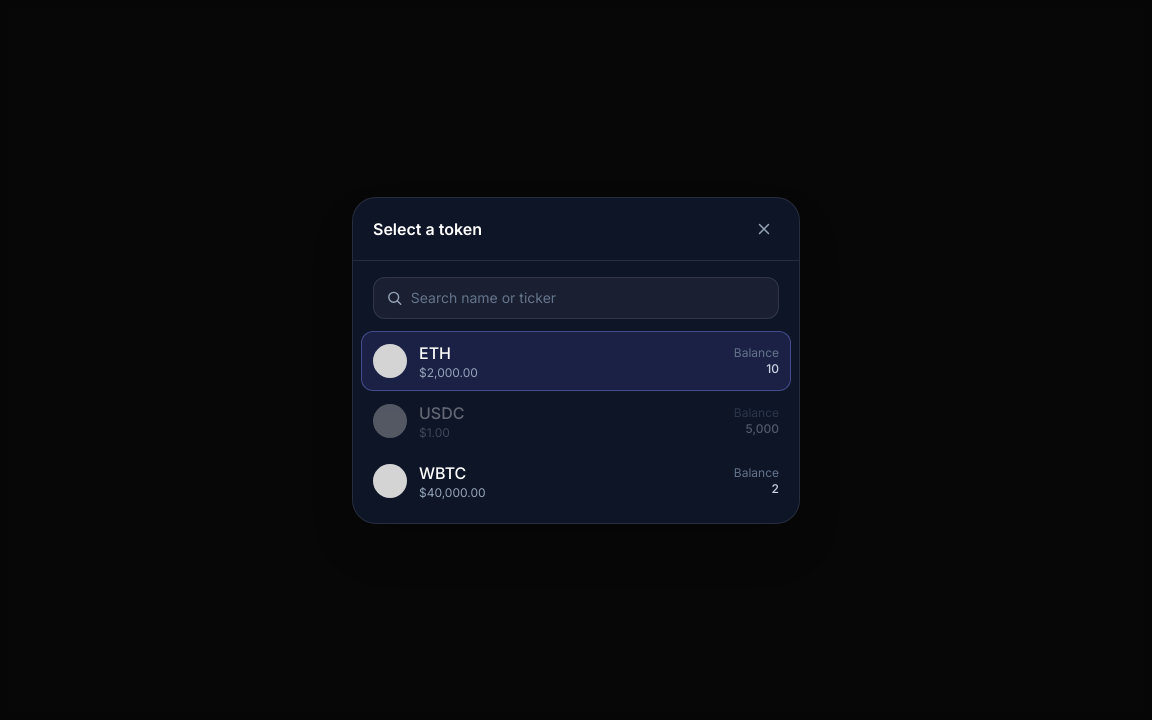
Test case: TokenSelectModal › filters the list by search query
The image size is (1152, 720).
Type "wbtc" into the field with placeholder "Search name or ticker". click: (588, 298)
box: x1=411 y1=288 x2=766 y2=308
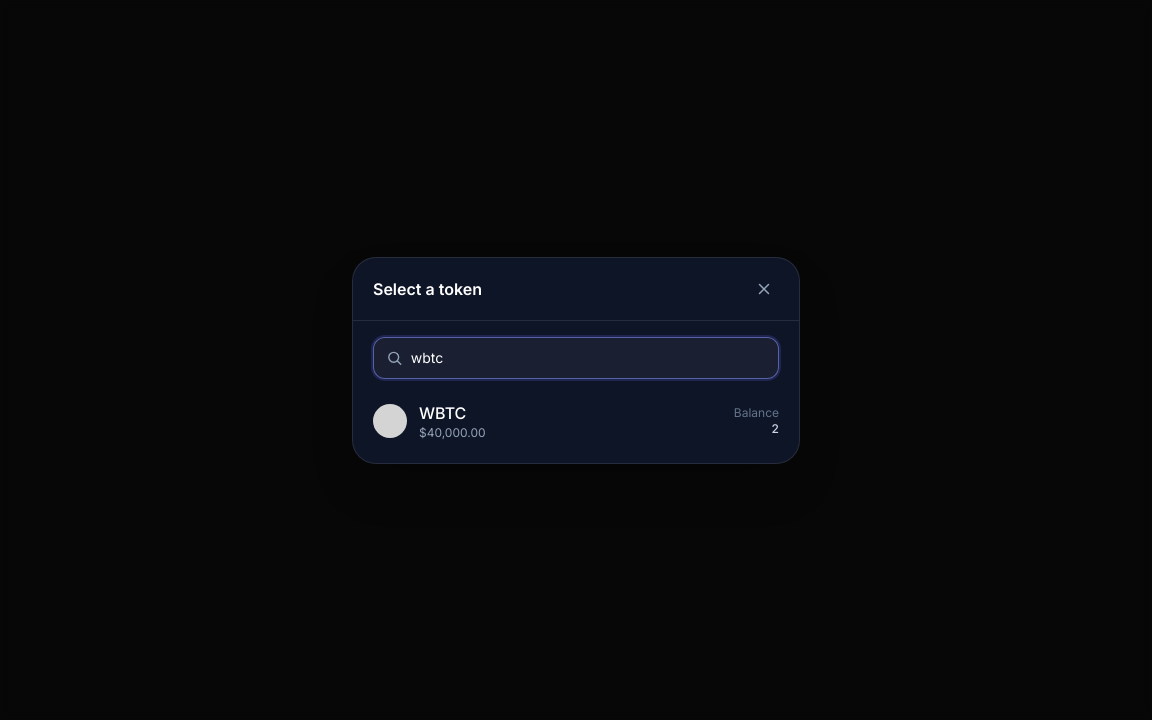
Check: the button "WBTC $40,000.00 Balance 2" is shown, box x1=361 y1=390 x2=791 y2=450
Check: the button "ETH" is gone
Check: the button "USDC" is gone
